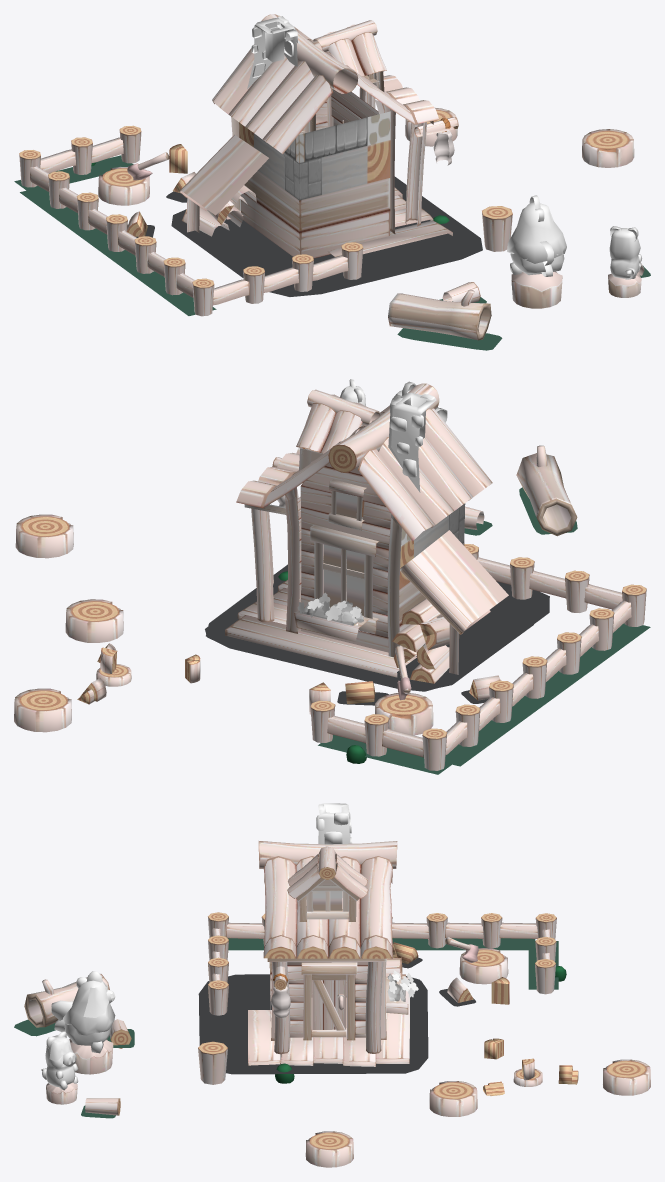
The model's file is EventForest1_NoEvent.fbx.
The picture shows the model from 3 angles, top to bottom: view 1: azimuth 30°, elevation 25°; view 2: azimuth 150°, elevation 25°; view 3: azimuth 270°, elevation 25°; orthographic projection. The views are drawn at different scales.
Parts seen in each view (by area): view 1: LumberjackHut, ShadowSquareTownDark, FenceRoundPosts (×8), LumberjackTrunkWood, WoodAnimalsChicken, FarmFenceShadow, WoodAnimalsBase (×2), HackingBlock (1), HackingBlock, WoodAnimalsPig, FenceRoundWood, ShadowSquareDark (+14 smaller); view 2: LumberjackHut, ShadowSquareTownDark, FenceRoundPosts (×8), FarmFenceShadow, LumberjackTrunkWood, HackingBlock (1), HackingBlock (2), HackingBlock (3), HackingBlock, FarmFenceShadow (1), FenceRoundPosts (3), FenceRoundPosts (2) (+7 smaller); view 3: LumberjackHut, ShadowSquareTownDark, WoodAnimalsChicken, door, FenceRoundPosts (×3), FarmFenceShadow, WoodAnimalsBase (×2), HackingBlock (1), HackingBlock (2), HackingBlock (3), WoodAnimalsPig, LumberjackTrunkWood (+8 smaller).
Boxes of the visible parts, bbox=[...] form: LumberjackHut: bbox=[179, 14, 458, 258]; ShadowSquareTownDark: bbox=[171, 176, 482, 296]; FenceRoundPosts (×8): bbox=[19, 125, 185, 295]; LumberjackTrunkWood: bbox=[388, 289, 491, 340]; WoodAnimalsChicken: bbox=[507, 195, 566, 276]; FarmFenceShadow: bbox=[20, 189, 216, 315]; WoodAnimalsBase (×2): bbox=[511, 271, 641, 308]; HackingBlock (1): bbox=[582, 129, 634, 167]; HackingBlock: bbox=[98, 166, 149, 205]; WoodAnimalsPig: bbox=[609, 226, 641, 279]; FenceRoundWood: bbox=[482, 206, 512, 251]; ShadowSquareDark: bbox=[397, 328, 502, 350]; LumberjackHut: bbox=[225, 383, 508, 683]; ShadowSquareTownDark: bbox=[206, 564, 549, 690]; FenceRoundPosts (×8): bbox=[310, 608, 614, 770]; FarmFenceShadow: bbox=[445, 623, 650, 766]; LumberjackTrunkWood: bbox=[516, 445, 577, 536]; HackingBlock (1): bbox=[15, 514, 73, 558]; HackingBlock (2): bbox=[65, 599, 123, 642]; HackingBlock (3): bbox=[14, 688, 71, 732]; HackingBlock: bbox=[375, 693, 433, 735]; FarmFenceShadow (1): bbox=[318, 735, 455, 774]; FenceRoundPosts (3): bbox=[510, 557, 534, 599]; FenceRoundPosts (2): bbox=[565, 570, 589, 612]; LumberjackHut: bbox=[248, 803, 418, 1066]; ShadowSquareTownDark: bbox=[198, 974, 427, 1074]; WoodAnimalsChicken: bbox=[51, 971, 115, 1053]; door: bbox=[311, 974, 346, 1037]; FenceRoundPosts (×3): bbox=[426, 913, 555, 994]; FarmFenceShadow: bbox=[228, 938, 535, 950]; WoodAnimalsBase (×2): bbox=[46, 1039, 113, 1104]; HackingBlock (1): bbox=[305, 1131, 353, 1167]; HackingBlock (2): bbox=[429, 1081, 477, 1116]; HackingBlock (3): bbox=[603, 1059, 650, 1095]; WoodAnimalsPig: bbox=[41, 1031, 78, 1090]; LumberjackTrunkWood: bbox=[24, 973, 109, 1027].
Size of what is drawn, in the model's own units: 8.64 by 3.66 by 10.16.
